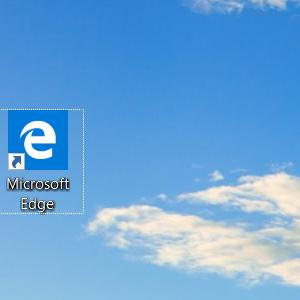edge: (8, 110, 69, 170)
